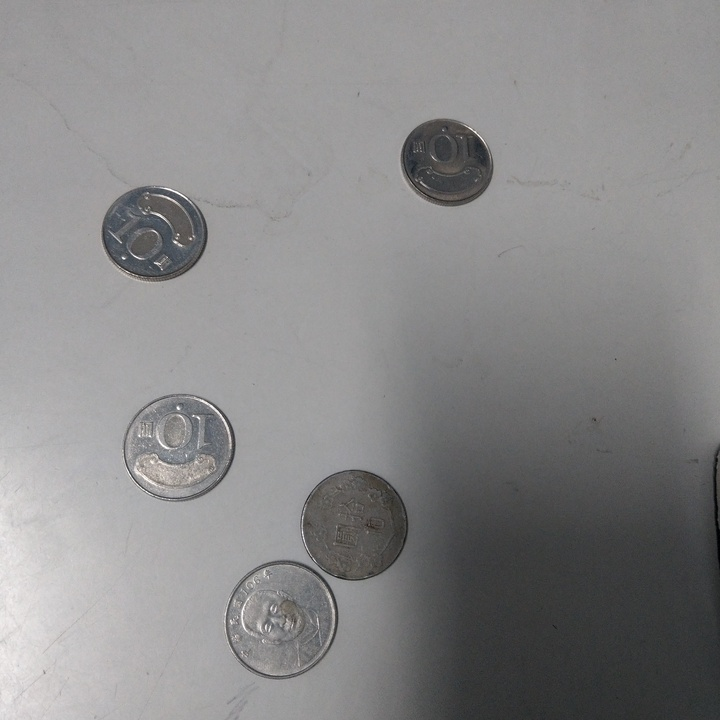10 dollar: (222, 561, 338, 680), (296, 467, 411, 584), (120, 394, 238, 504), (101, 185, 211, 286), (401, 116, 495, 210)
